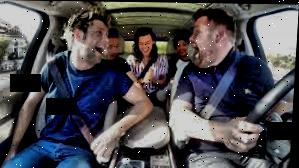seatbelt: (40, 39, 110, 164), (203, 34, 254, 119), (136, 48, 162, 80)
